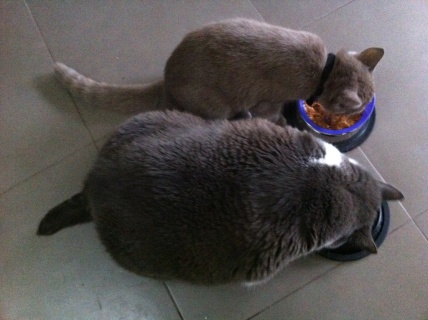Cat: (35, 105, 405, 284), (52, 16, 384, 124)
